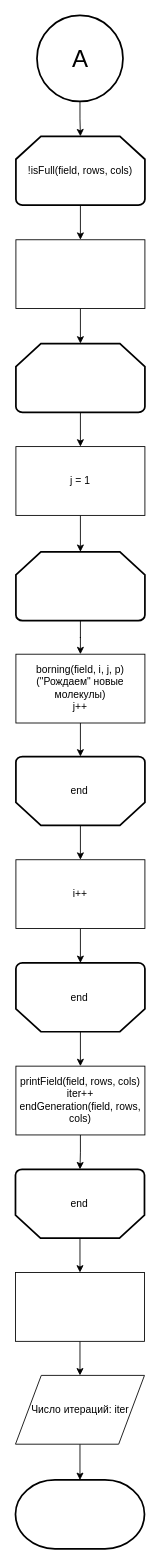
Some shapes in this 161 by 1564 pixel diagram are drawn without their labels. Each missing label, with the centre of its shape:
i <= rows: the point at 80,377
i = 1: the point at 80,274
j <= cols: the point at 80,586
printField(field, rows, cols): the point at 79,1306
конец: the point at 79,1514
